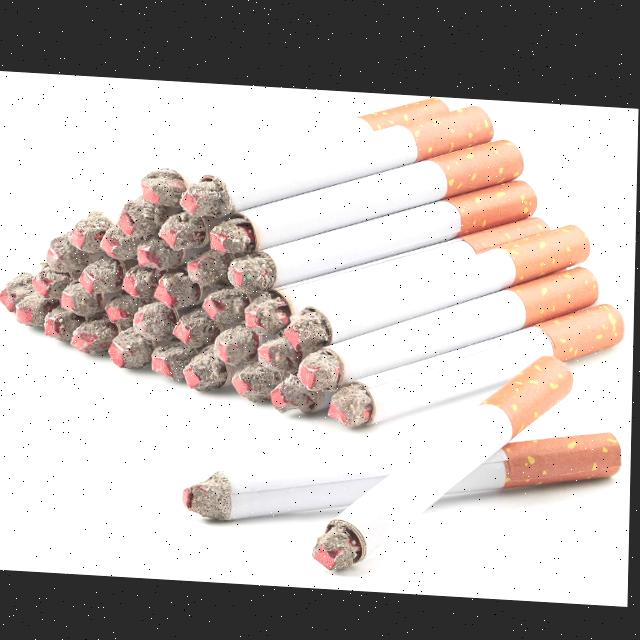cigarette: (316, 349, 576, 567), (186, 423, 623, 519), (285, 217, 592, 347), (298, 260, 600, 387), (329, 296, 625, 423), (246, 210, 552, 332), (211, 133, 525, 250), (228, 174, 539, 292), (181, 100, 494, 215), (141, 93, 450, 205)
